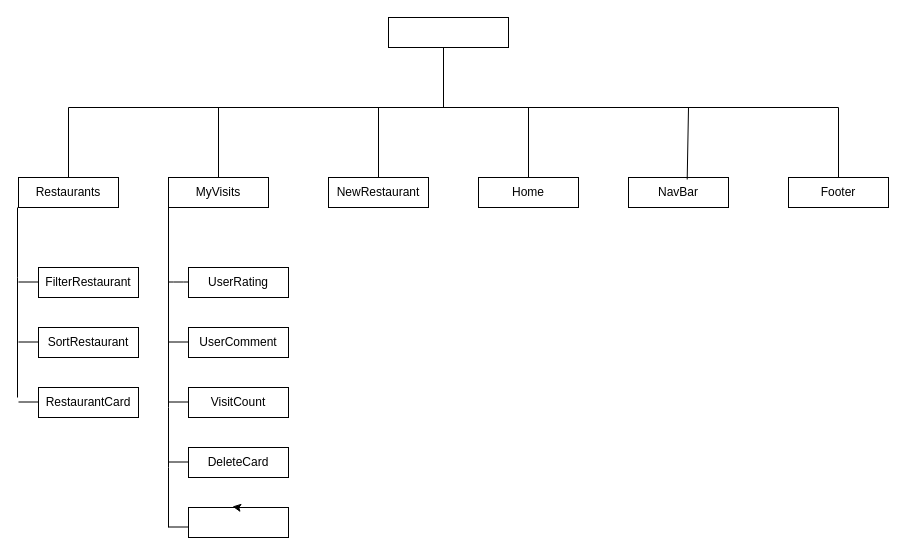
Image size: 906x555. Some labels were removed from this diagram. Each missing label, with the centre of its shape:
"App" belongs at pixel 448 32.
"SortVisits" belongs at pixel 238 522.
